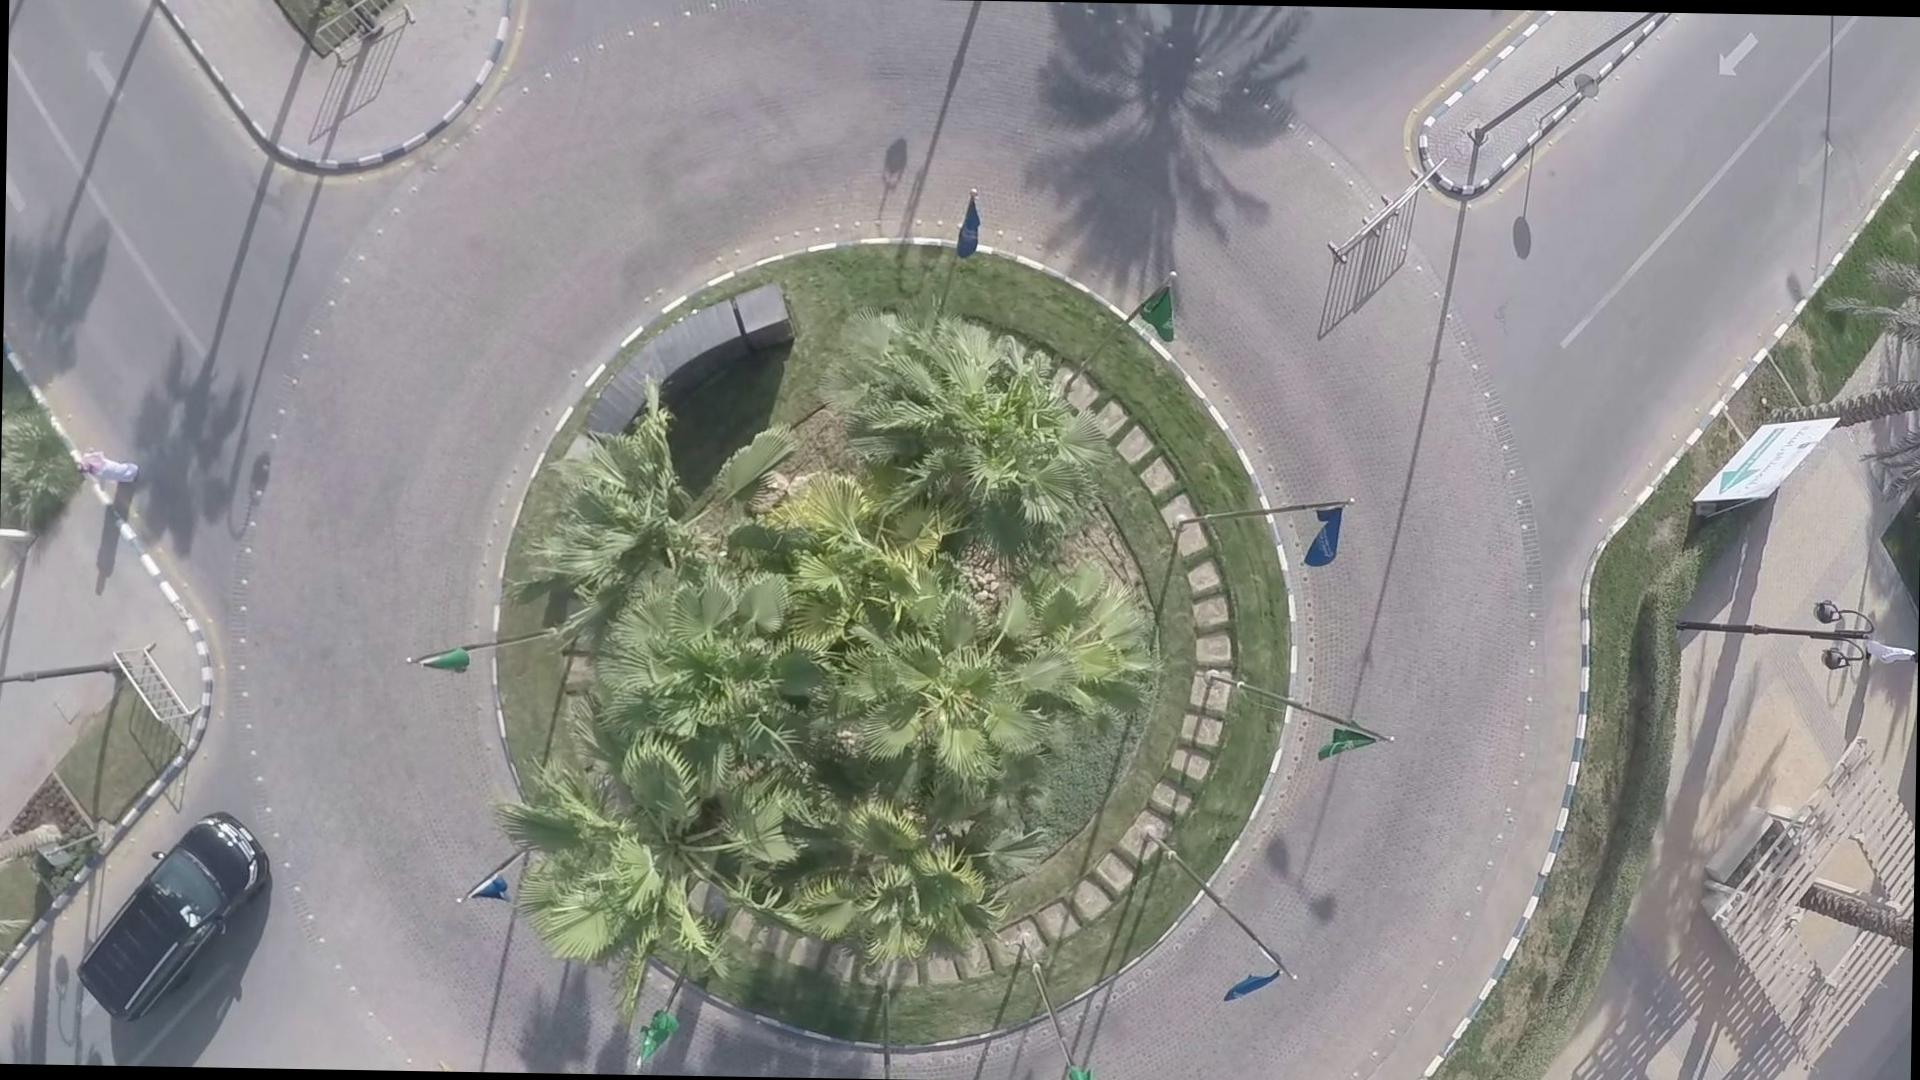vehicle: (78, 795, 266, 1038)
